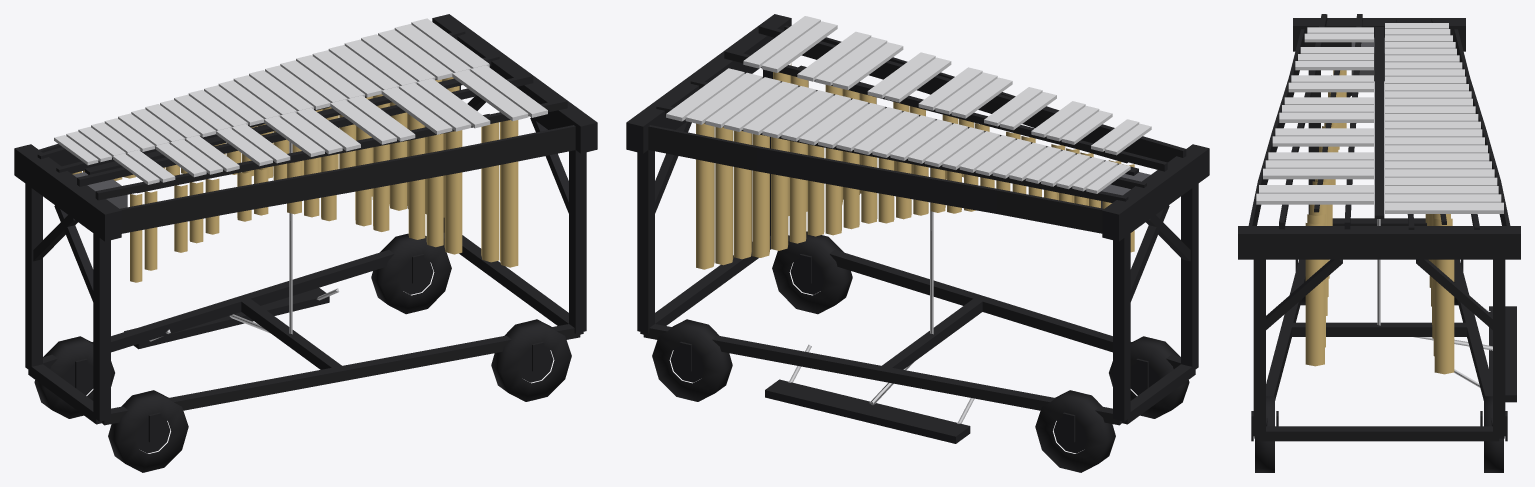
File: vibraphone-3.5-low.glb
3 views of the same model, side by side, from view 1: azimuth 30°, elevation 25°; view 2: azimuth 150°, elevation 25°; view 3: azimuth 270°, elevation 25° (orthographic). The views are drawn at different scales.
Parts seen in each view (by area): view 1: frame, bars-silver, resonators-gold, artwork, metal; view 2: frame, bars-silver, resonators-gold, metal; view 3: frame, bars-silver, resonators-gold, metal.
Part boxes in pixels (x1,y1,x2,y2): frame: [14, 14, 597, 472]; bars-silver: [54, 18, 547, 184]; resonators-gold: [72, 77, 518, 282]; artwork: [121, 126, 575, 233]; metal: [149, 142, 339, 341]; frame: [626, 14, 1209, 472]; bars-silver: [666, 16, 1151, 193]; resonators-gold: [696, 63, 1134, 269]; metal: [788, 167, 974, 423]; frame: [1238, 14, 1520, 472]; bars-silver: [1256, 23, 1503, 213]; resonators-gold: [1305, 70, 1454, 374]; metal: [1377, 219, 1492, 387].
Size of the model in its own units: 1.65 by 0.9719 by 0.9144.
